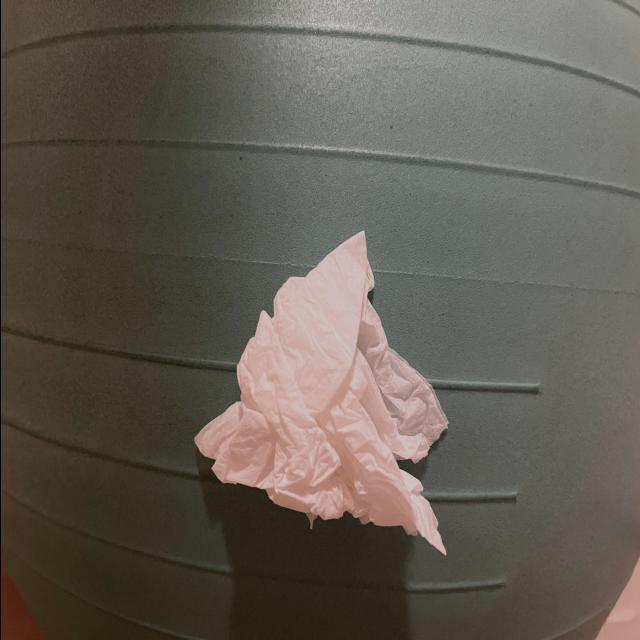Paper: (188, 243, 476, 555)
